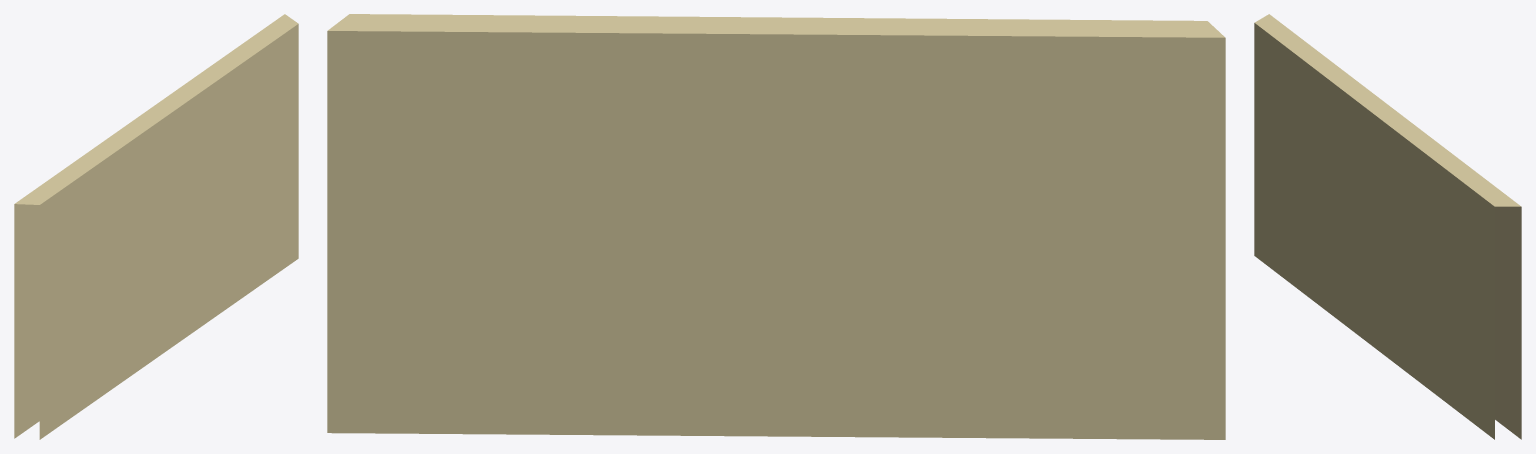
The model's file is wall34.fbx.
The picture shows the model from 3 angles, left to right: view 1: azimuth 30°, elevation 25°; view 2: azimuth 150°, elevation 25°; view 3: azimuth 270°, elevation 25°; orthographic projection. The views are drawn at different scales.
Parts seen in each view (by area): view 1: duvar.001; view 2: duvar.001; view 3: duvar.001.
Boxes of the visible parts, x1,y1,x2,y2 form: duvar.001: (14, 14, 298, 439); duvar.001: (327, 14, 1225, 439); duvar.001: (1254, 14, 1521, 439).
Size of the model in its own units: 53.41 by 30.12 by 31.26.
